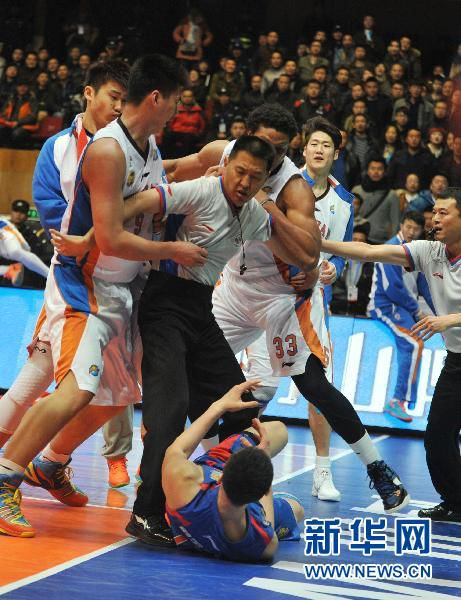10+: (6, 30, 460, 500)
down: (126, 377, 309, 564)
